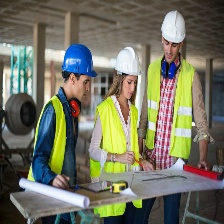helmet: (60, 42, 97, 77), (158, 9, 190, 44), (112, 46, 145, 77)
person: (142, 7, 210, 224), (29, 41, 93, 224), (89, 36, 146, 223)
vest: (92, 99, 142, 216), (32, 90, 80, 200), (146, 60, 196, 161)
